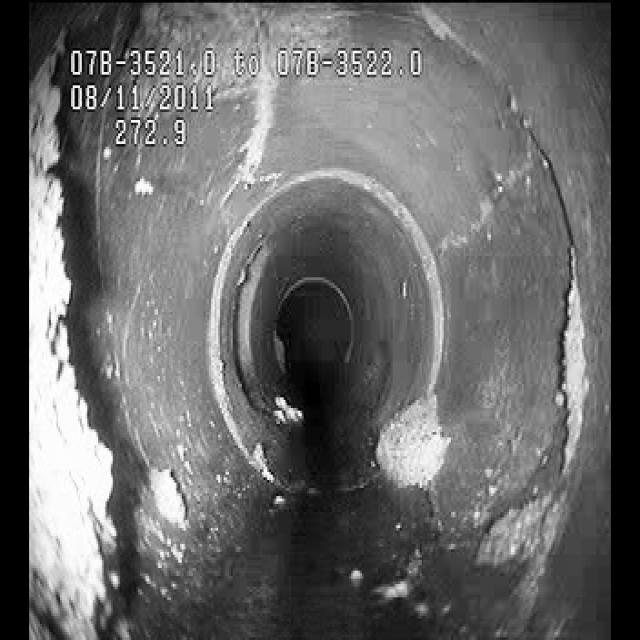Fracture: (500, 67, 604, 500)
